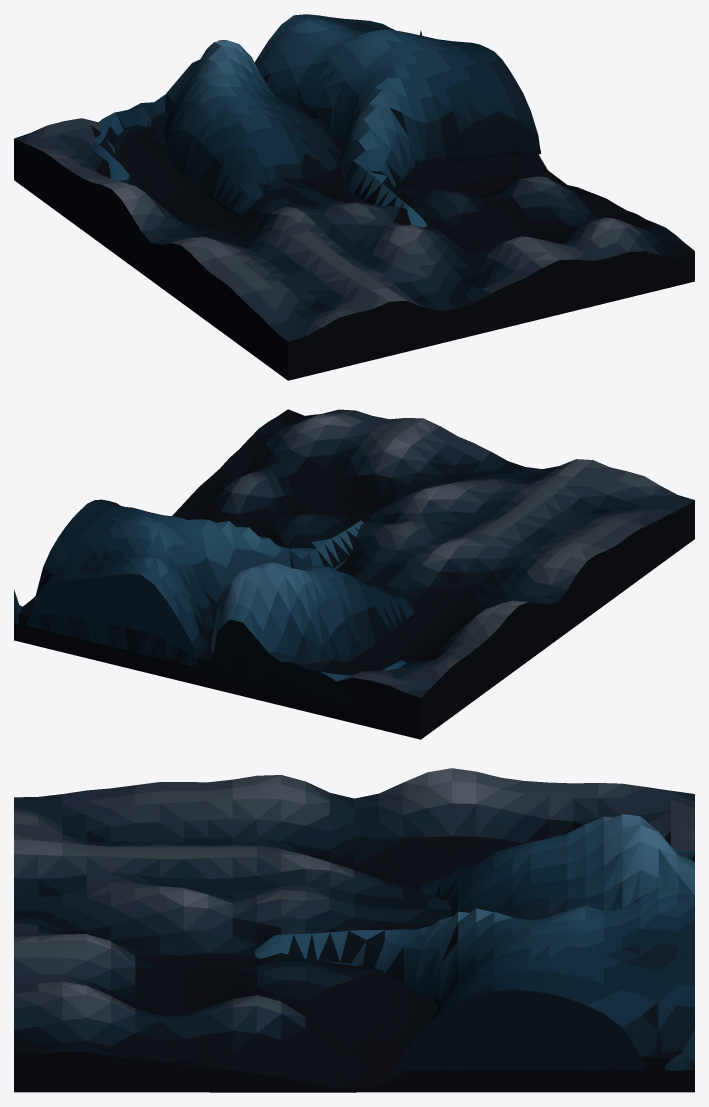
File: gyges_lurker_bl.glb
The picture shows the model from 3 angles, top to bottom: view 1: azimuth 30°, elevation 25°; view 2: azimuth 150°, elevation 25°; view 3: azimuth 270°, elevation 25°; orthographic projection. The views are drawn at different scales.
Parts seen in each view (by area): view 1: gyges_lurker_bl_lurker_wall, gyges_lurker_bl_lurker_body; view 2: gyges_lurker_bl_lurker_wall, gyges_lurker_bl_lurker_body; view 3: gyges_lurker_bl_lurker_wall, gyges_lurker_bl_lurker_body.
Boxes of the visible parts, x1,y1,x2,y2 form: gyges_lurker_bl_lurker_wall: (14,112,694,380); gyges_lurker_bl_lurker_body: (93,14,540,227); gyges_lurker_bl_lurker_wall: (14,409,694,739); gyges_lurker_bl_lurker_body: (14,499,416,704); gyges_lurker_bl_lurker_wall: (14,768,694,1092); gyges_lurker_bl_lurker_body: (254,814,694,1073).
Size of the model in its own units: 23.98 by 6.54 by 27.98.
